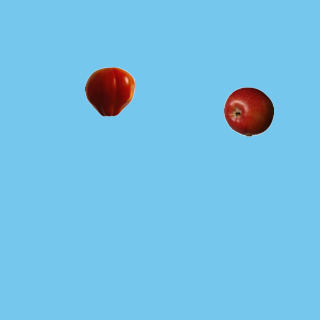Apple Braeburn: (223, 86, 273, 136)
Tomato 1: (84, 66, 134, 116)
